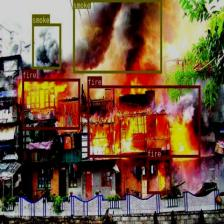fire: (87, 86, 200, 156), (22, 78, 80, 130), (147, 156, 171, 194)
smoke: (72, 0, 161, 72), (32, 23, 60, 69)
